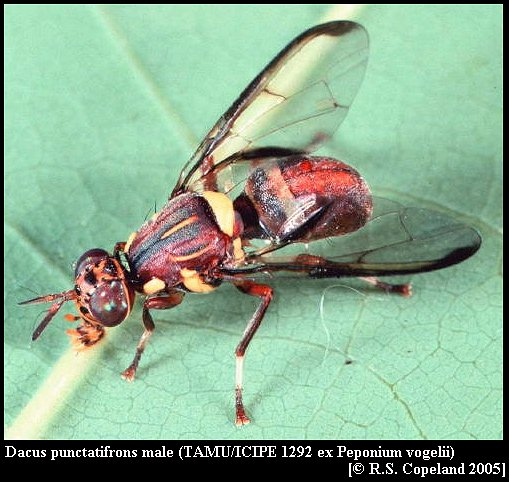Fruit fly: (44, 33, 468, 419)
